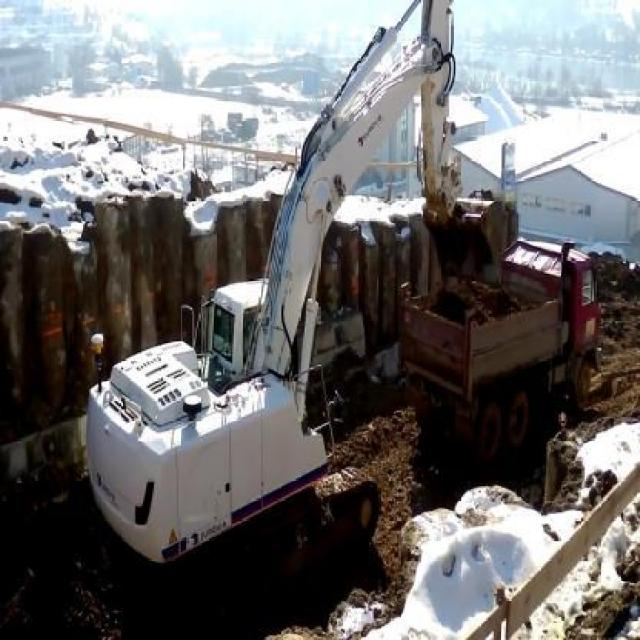Dump Truck: (396, 234, 601, 460)
Excavator: (85, 3, 502, 582)
